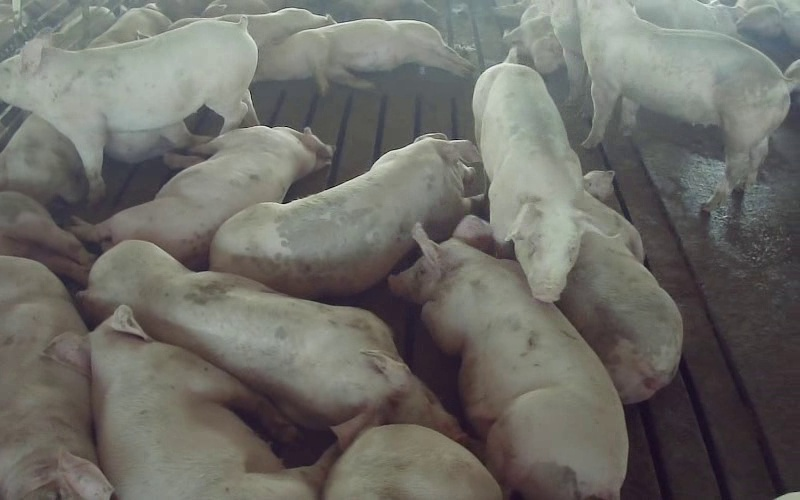pig: (79, 240, 463, 441), (389, 216, 627, 499), (45, 306, 338, 499), (0, 19, 257, 202), (578, 0, 799, 209), (210, 134, 480, 297), (71, 126, 331, 268), (473, 63, 606, 302), (557, 171, 682, 403), (254, 19, 472, 93)
